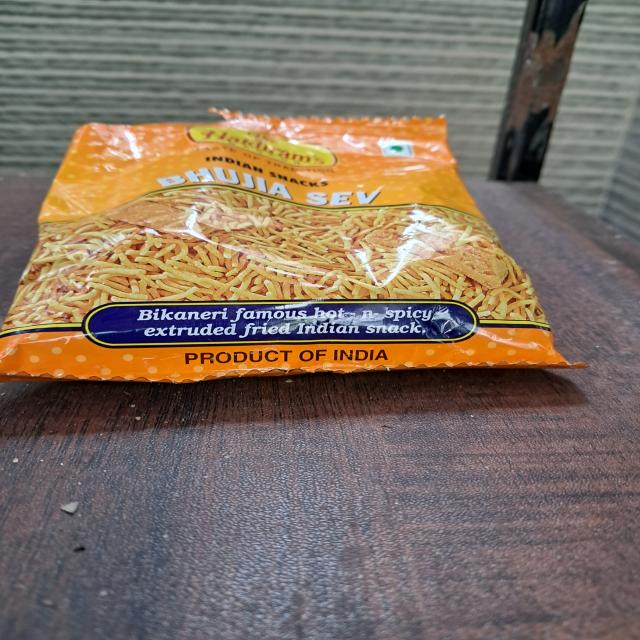Anorganik: (0, 102, 598, 397)
